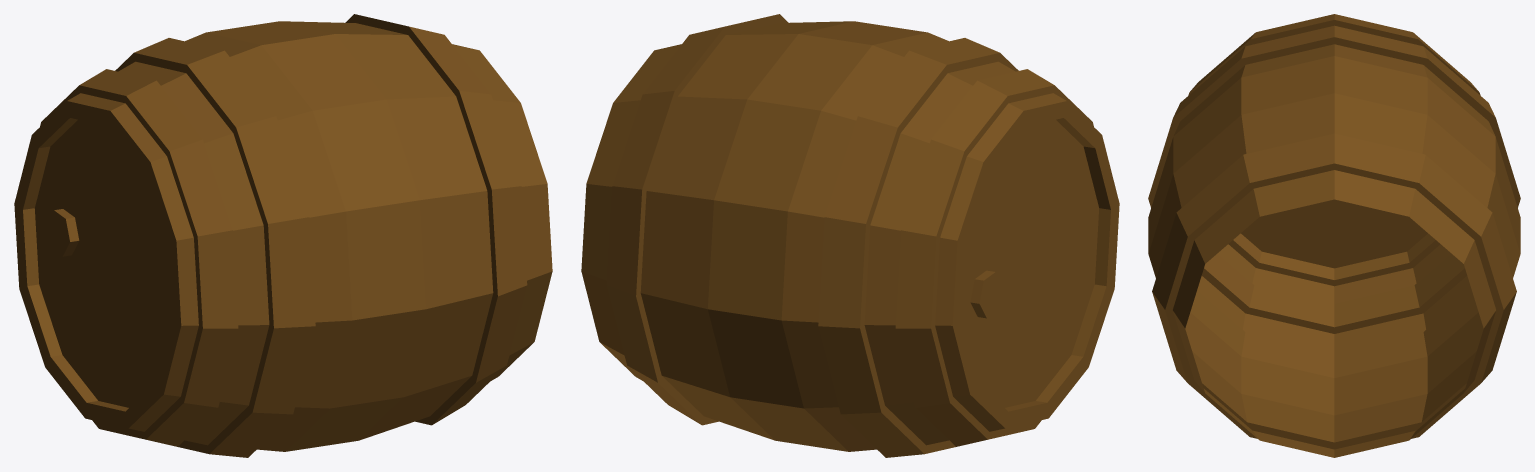
The model's file is ClosedBarrel.dae.
3 views of the same model, side by side, from view 1: azimuth 30°, elevation 25°; view 2: azimuth 150°, elevation 25°; view 3: azimuth 270°, elevation 25° (orthographic). The views are drawn at different scales.
Parts seen in each view (by area): view 1: Cylinder_003; view 2: Cylinder_003; view 3: Cylinder_003.
Boxes of the visible parts, left/top/right/bottom form: Cylinder_003: left=14, top=14, right=552, bottom=457; Cylinder_003: left=581, top=14, right=1119, bottom=457; Cylinder_003: left=1148, top=14, right=1520, bottom=457.
Size of the model in its own units: 2.13 by 2 by 2.06.
